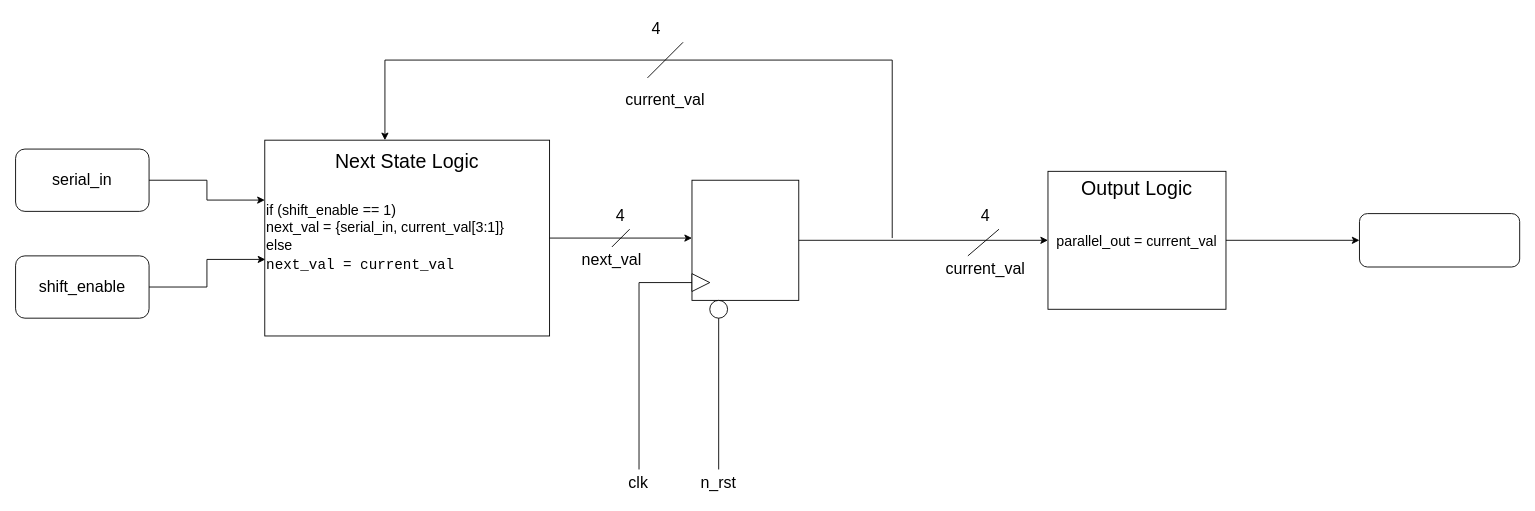
This 1535x511 diagram has some shape labels left out. Here are the shapes that lost their labels. From the top down, the box of each, then its label:
(691, 179, 799, 300): (4)FF
(1359, 213, 1520, 267): parallel_out [3:0]
